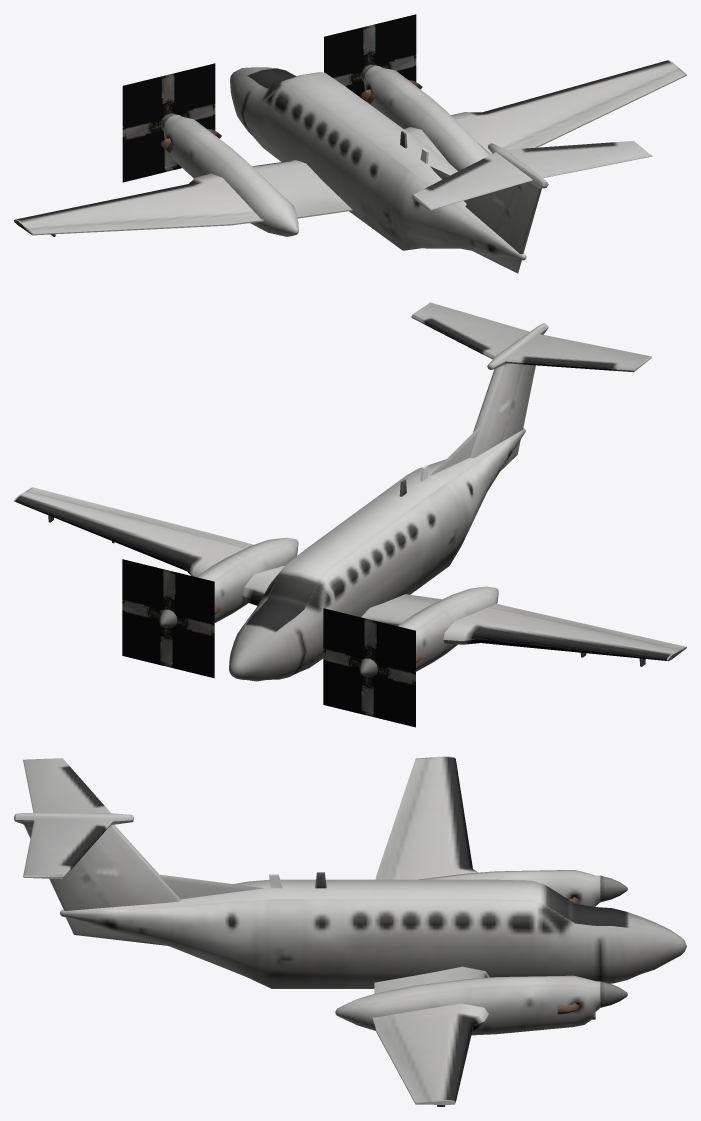
3 renders of one model, top to bottom at view 1: azimuth 30°, elevation 25°; view 2: azimuth 150°, elevation 25°; view 3: azimuth 270°, elevation 25°, orthographic. The views are drawn at different scales.
Visible parts, largest first — view 1: hull, props01; view 2: hull, props01; view 3: hull.
Boxes of the visible parts, x1,y1,x2,y2 form: hull: [14, 60, 686, 273]; props01: [122, 14, 416, 182]; hull: [14, 302, 686, 681]; props01: [122, 559, 415, 727]; hull: [14, 756, 686, 1106].
Size of the model in its own units: 17.69 by 4.32 by 14.58.
2 materials, 2 textured.
